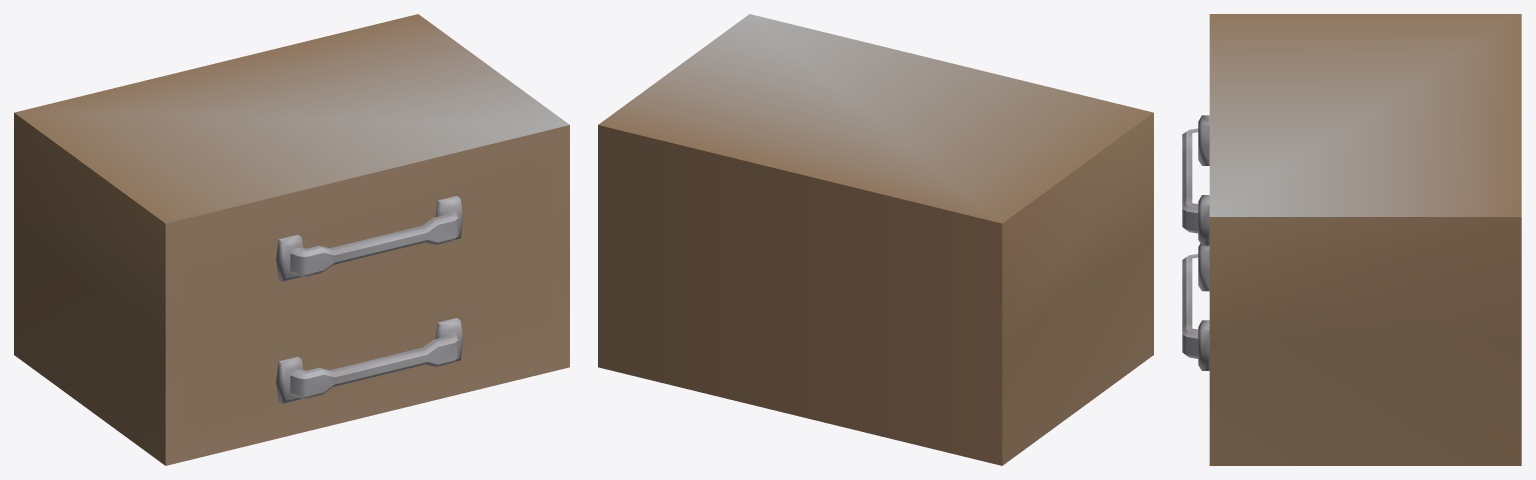
Rendered from Workbench_Drawers.glb.
3 renders of one model, left to right at view 1: azimuth 30°, elevation 25°; view 2: azimuth 150°, elevation 25°; view 3: azimuth 270°, elevation 25°, orthographic. The views are drawn at different scales.
Visible parts, largest first — view 1: Workbench_Drawers_b25643, Workbench_Drawers_59df94; view 2: Workbench_Drawers_b25643; view 3: Workbench_Drawers_b25643, Workbench_Drawers_59df94.
Boxes of the visible parts, <box> form: Workbench_Drawers_b25643: <box>14,14,569,465</box>; Workbench_Drawers_59df94: <box>276,196,463,403</box>; Workbench_Drawers_b25643: <box>598,14,1153,465</box>; Workbench_Drawers_b25643: <box>1209,14,1521,465</box>; Workbench_Drawers_59df94: <box>1182,115,1209,370</box>.
Bounding box in the file's own units: 0.4231 × 0.2423 × 0.299.
